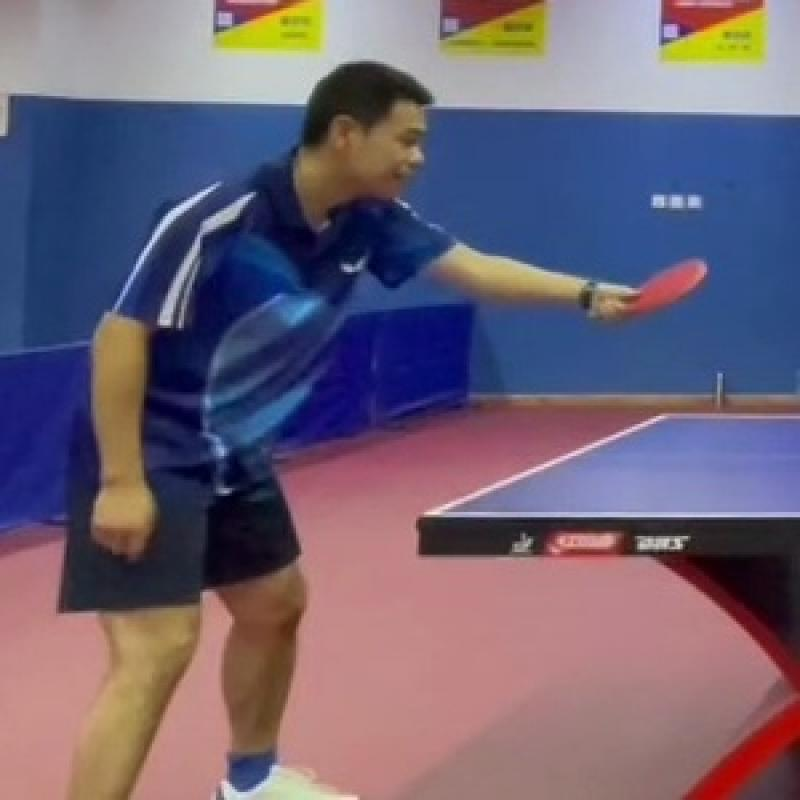bats: (588, 240, 718, 334)
